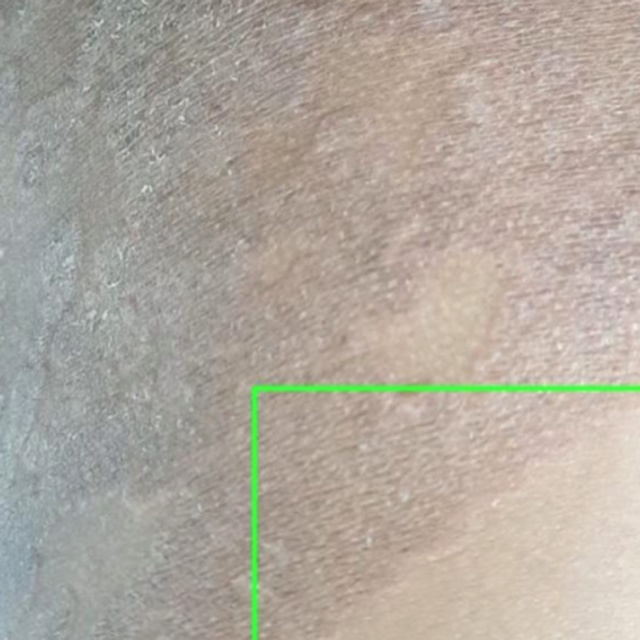Tinea Corporis: (254, 388, 639, 639)
